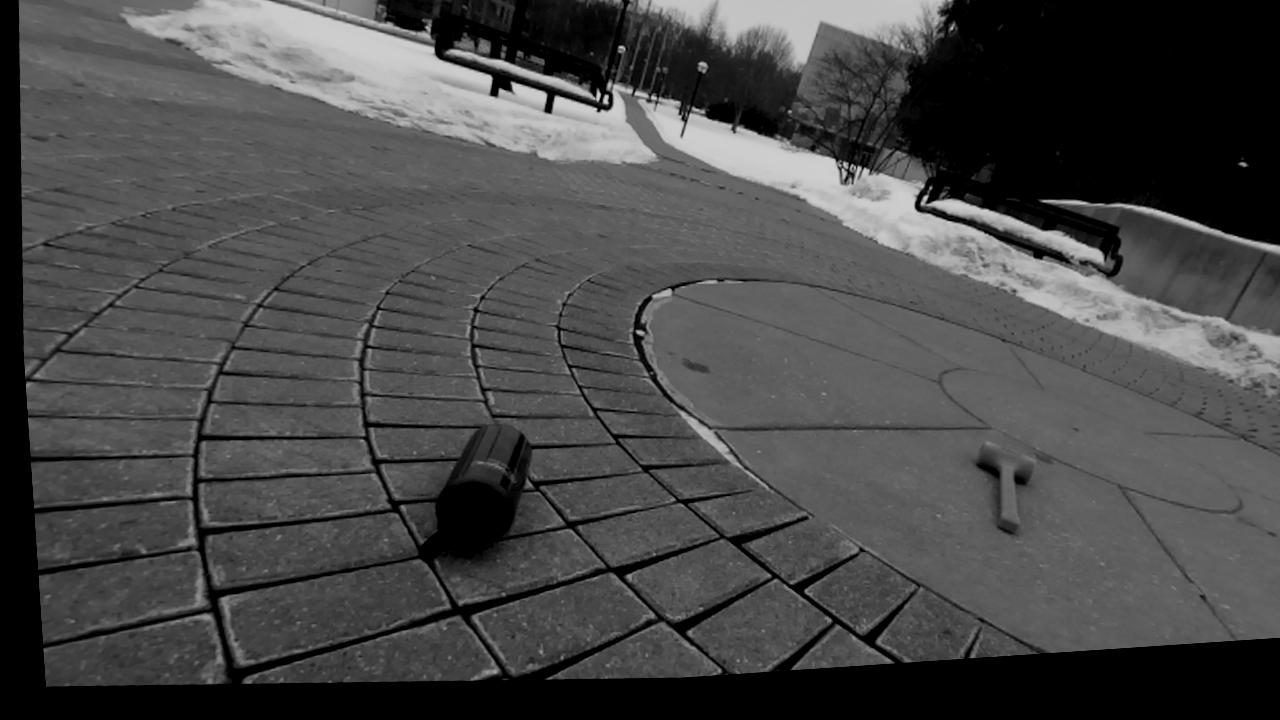bottle: (420, 424, 531, 557)
mallet: (976, 442, 1037, 532)
